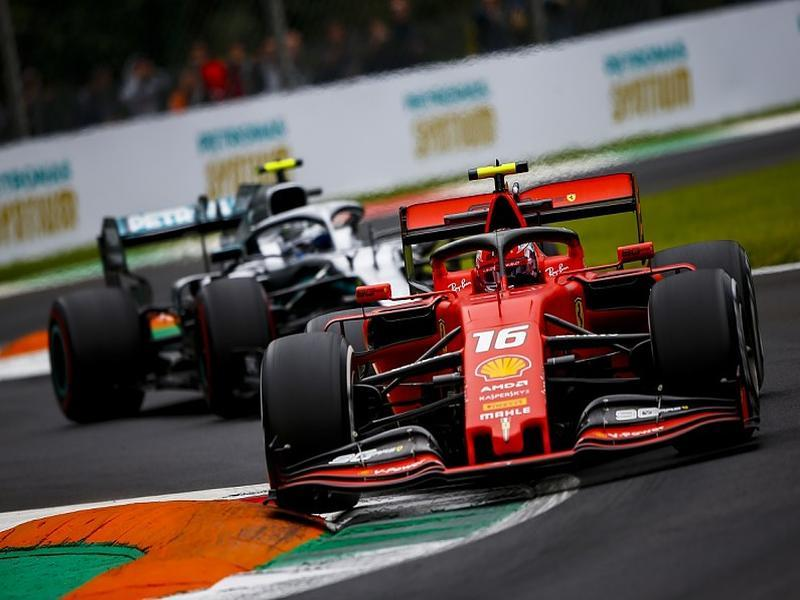racecar: (267, 176, 775, 521), (37, 192, 393, 416)
